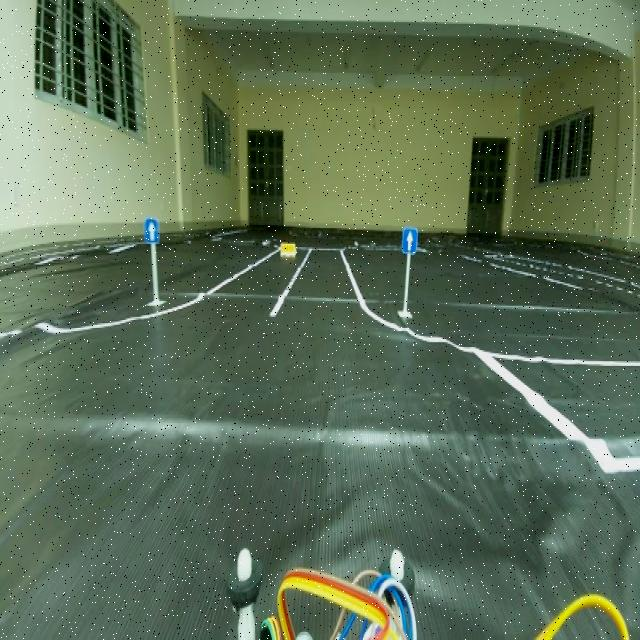onewayroad: (404, 221, 422, 267), (145, 216, 159, 250)
roadblock: (276, 238, 296, 268)
